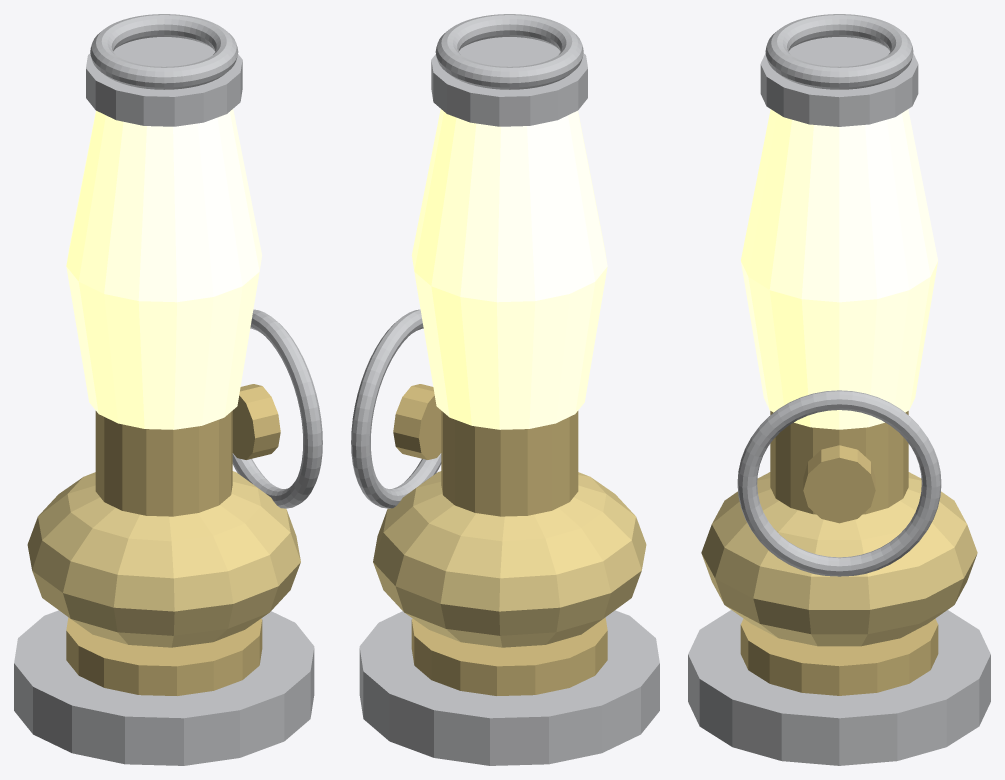
The model's file is kerosene_lamp.glb.
3 renders of one model, left to right at view 1: azimuth 30°, elevation 25°; view 2: azimuth 150°, elevation 25°; view 3: azimuth 270°, elevation 25°, orthographic.
Parts seen in each view (by area): view 1: kerosene_lamp; view 2: kerosene_lamp; view 3: kerosene_lamp.
Part boxes in pixels (x1,y1,x2,y2): kerosene_lamp: [14, 14, 322, 765]; kerosene_lamp: [351, 14, 659, 765]; kerosene_lamp: [688, 14, 990, 765].
Bounding box in the file's own units: 0.092 × 0.2215 × 0.092.
